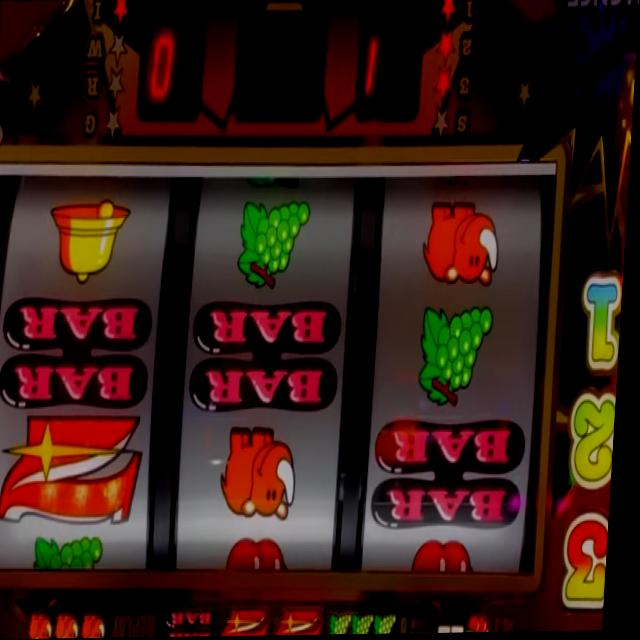bar: (0, 294, 157, 412), (375, 417, 532, 533), (191, 300, 346, 416), (169, 605, 225, 638)
bell: (48, 201, 134, 286)
cherry: (231, 537, 296, 573), (416, 540, 483, 574), (472, 617, 502, 634)
display: (0, 152, 560, 583)
elephant: (223, 426, 304, 525), (422, 205, 504, 290), (33, 610, 61, 639), (61, 611, 88, 639), (88, 612, 114, 638)
grape: (420, 302, 498, 410), (239, 199, 313, 293), (37, 533, 111, 572), (380, 610, 405, 635), (358, 611, 381, 635), (336, 611, 359, 635)
z: (279, 605, 332, 636), (229, 606, 279, 637)
